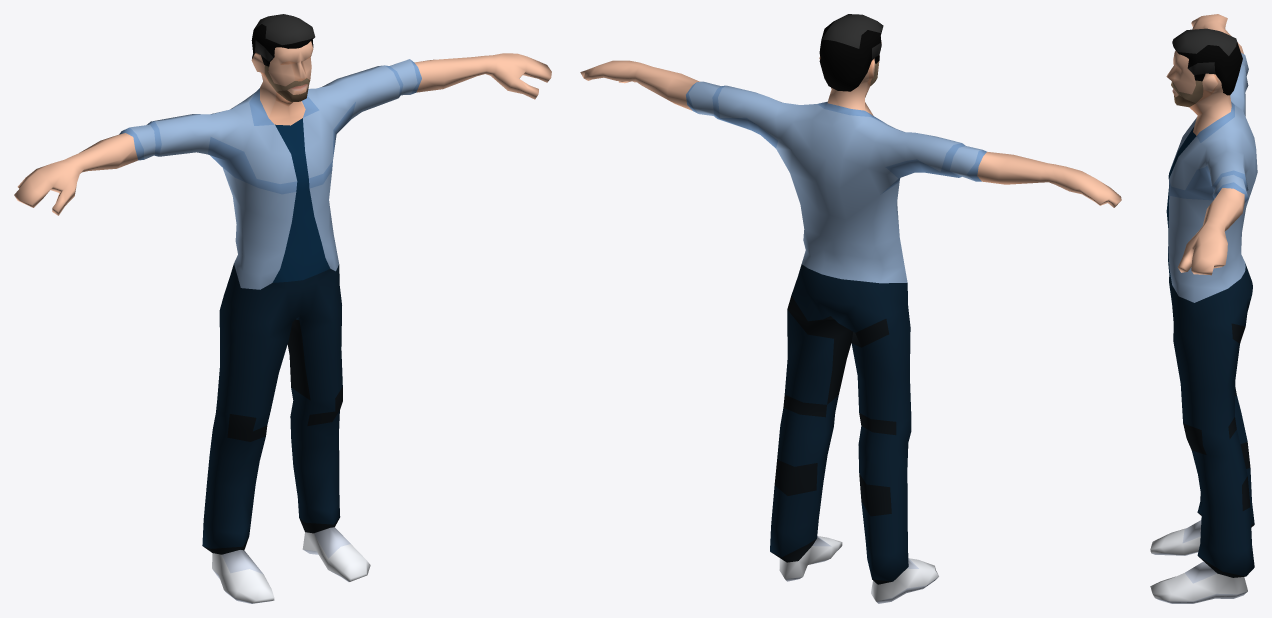
File: Male.obj
The picture shows the model from 3 angles, left to right: view 1: azimuth 30°, elevation 25°; view 2: azimuth 150°, elevation 25°; view 3: azimuth 270°, elevation 25°; orthographic projection. The views are drawn at different scales.
Visible parts, largest first — view 1: lpMaleG; view 2: lpMaleG; view 3: lpMaleG.
Part boxes in pixels (x1,y1,x2,y2): lpMaleG: (14, 14, 551, 603); lpMaleG: (580, 14, 1121, 603); lpMaleG: (1150, 14, 1257, 603).
Size of the model in its own units: 2.4 by 2.39 by 0.4291.
